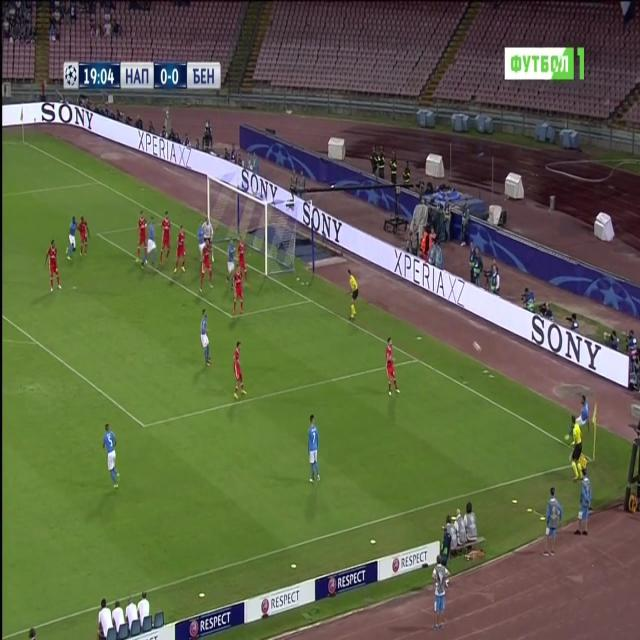Ball: (472, 338, 483, 357)
Goalkeeper: (199, 211, 217, 243)
Player: (100, 422, 121, 492), (306, 411, 324, 486), (229, 338, 250, 402), (566, 394, 593, 441), (43, 237, 64, 295), (197, 304, 214, 372), (383, 335, 400, 400), (130, 211, 148, 269), (158, 210, 175, 271), (197, 240, 215, 293), (172, 220, 188, 276), (78, 212, 95, 262), (64, 213, 80, 265), (144, 213, 158, 271), (232, 262, 246, 318), (236, 233, 250, 285), (225, 235, 238, 284)
Referee: (566, 414, 588, 486), (346, 266, 360, 322)
